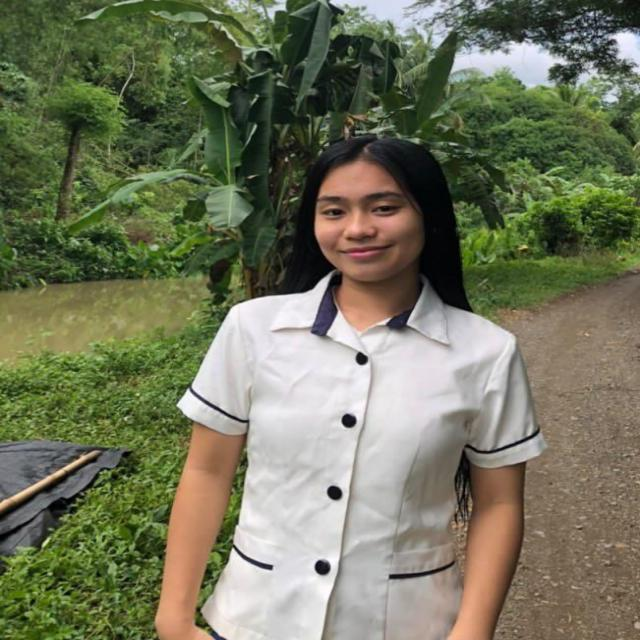education_female_uniform: (153, 247, 569, 640)
